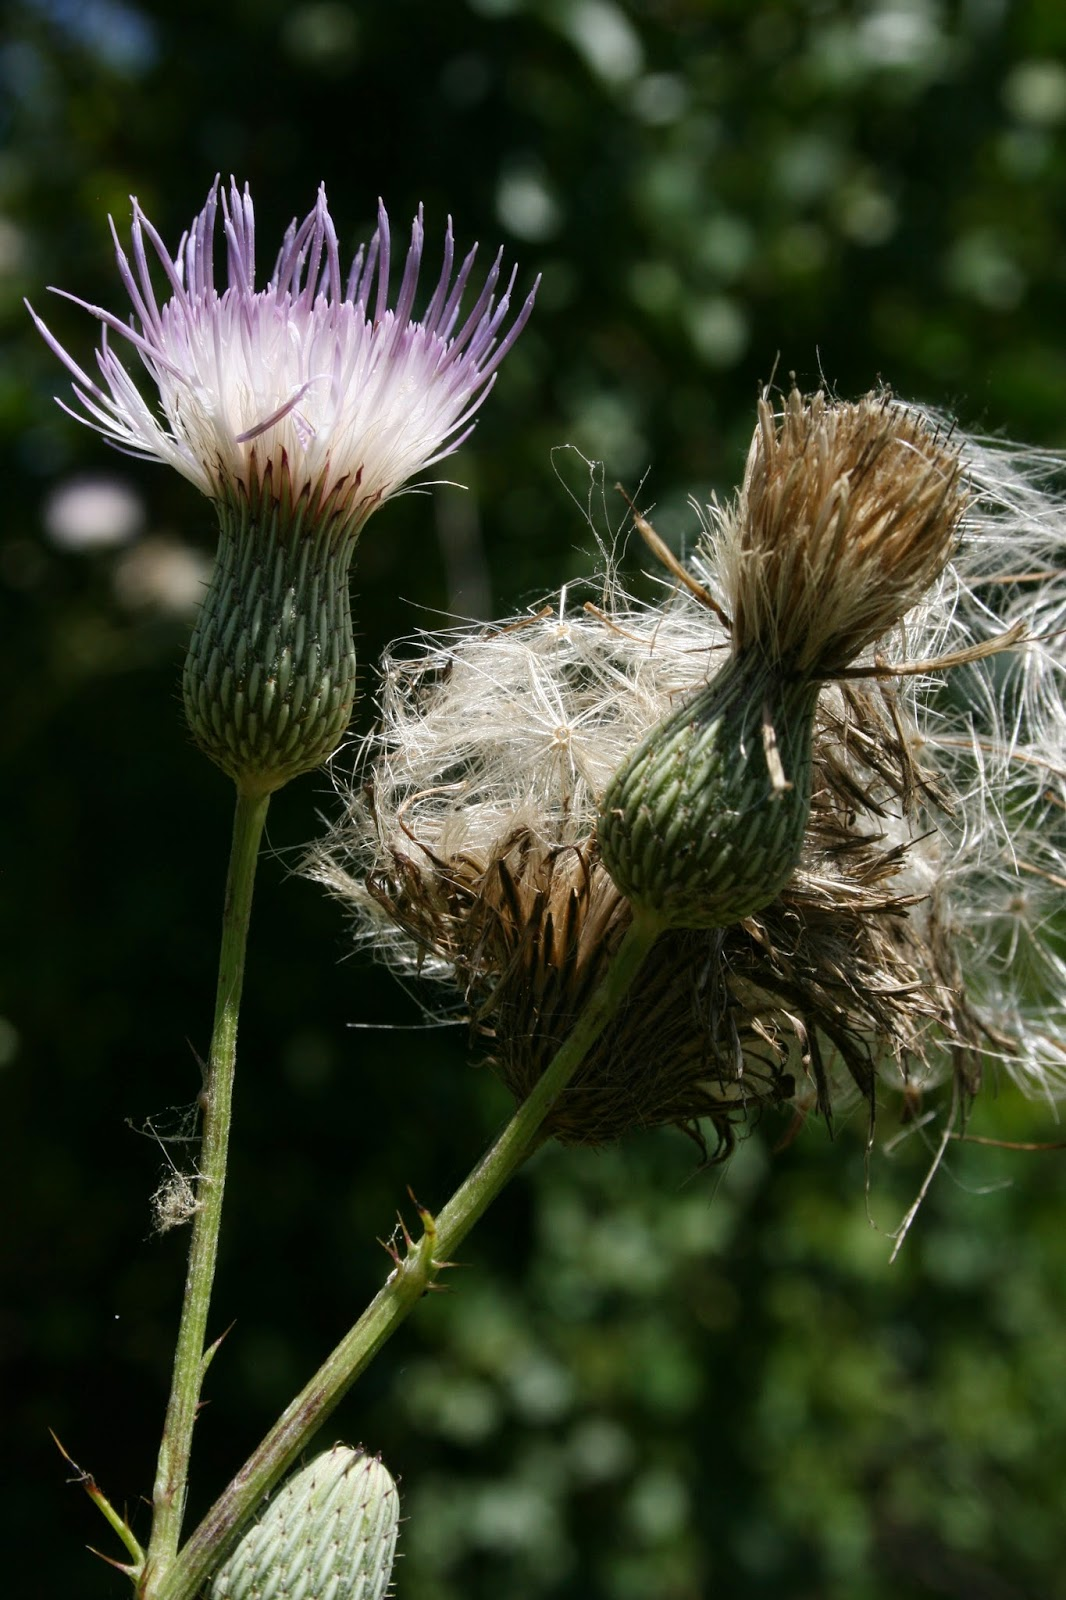thistle: (65, 175, 544, 791)
